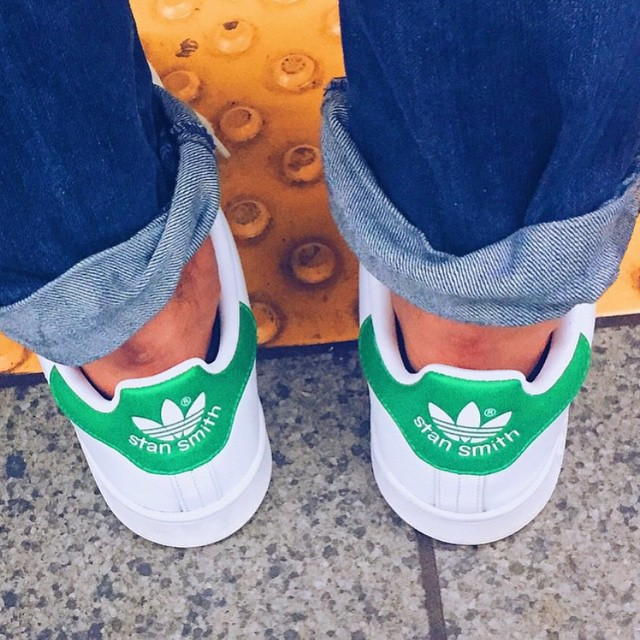sneaker: (6, 173, 296, 570), (342, 203, 631, 566)
